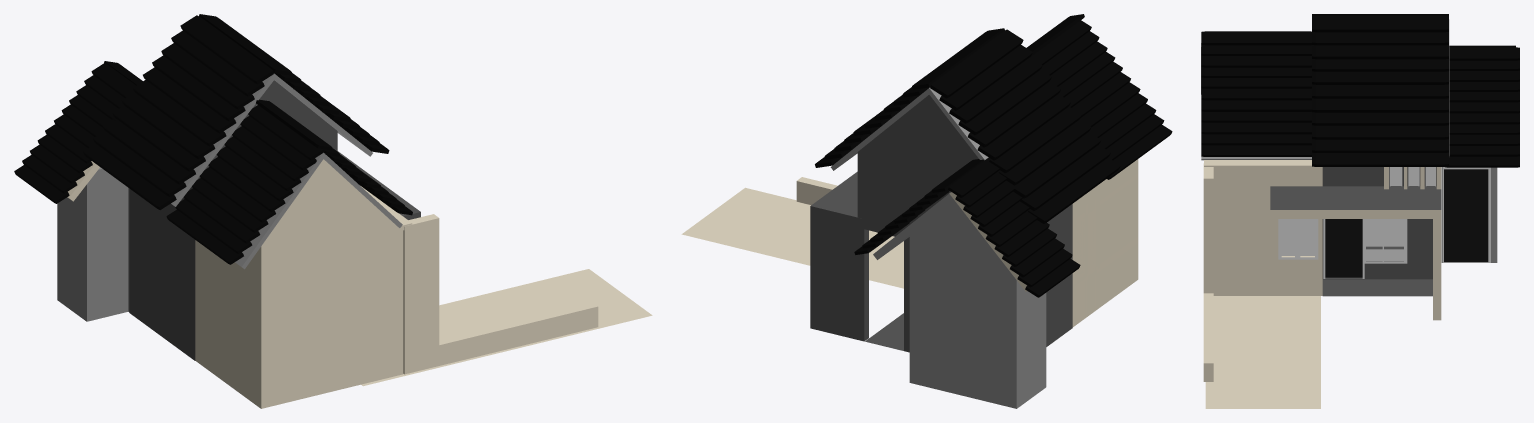
File: Rumah_Modern_Simplified.fbx
The picture shows the model from 3 angles, left to right: view 1: azimuth 30°, elevation 25°; view 2: azimuth 150°, elevation 25°; view 3: azimuth 270°, elevation 25°; orthographic projection. The views are drawn at different scales.
Visible parts, largest first — view 1: Cube.004, Main Roof 2, Medium Roof 2, Small Roof 2, Main Roof 1, Medium Roof 1; view 2: Cube.004, Main Roof 2, Medium Roof 2, Small Roof 2, Main Roof 1, Small Roof 1, Medium Roof 1; view 3: Cube.004, Main Roof 1, Medium Roof 1, Small Roof 1.
Part boxes in pixels (<box>): Cube.004: <box>57,73,652,408</box>; Main Roof 2: <box>83,15,273,209</box>; Medium Roof 2: <box>166,105,324,264</box>; Small Roof 2: <box>14,63,135,203</box>; Main Roof 1: <box>199,14,389,153</box>; Medium Roof 1: <box>256,99,412,215</box>; Cube.004: <box>681,87,1138,408</box>; Main Roof 2: <box>930,29,1120,223</box>; Medium Roof 2: <box>1030,20,1172,179</box>; Small Roof 2: <box>948,157,1080,297</box>; Main Roof 1: <box>815,28,1004,167</box>; Small Roof 1: <box>854,159,984,254</box>; Medium Roof 1: <box>1026,14,1084,57</box>; Cube.004: <box>1201,19,1497,408</box>; Main Roof 1: <box>1312,15,1448,166</box>; Medium Roof 1: <box>1201,31,1311,156</box>; Small Roof 1: <box>1445,47,1519,167</box>.
Size of the model in its own units: 1446 by 831 by 949.
